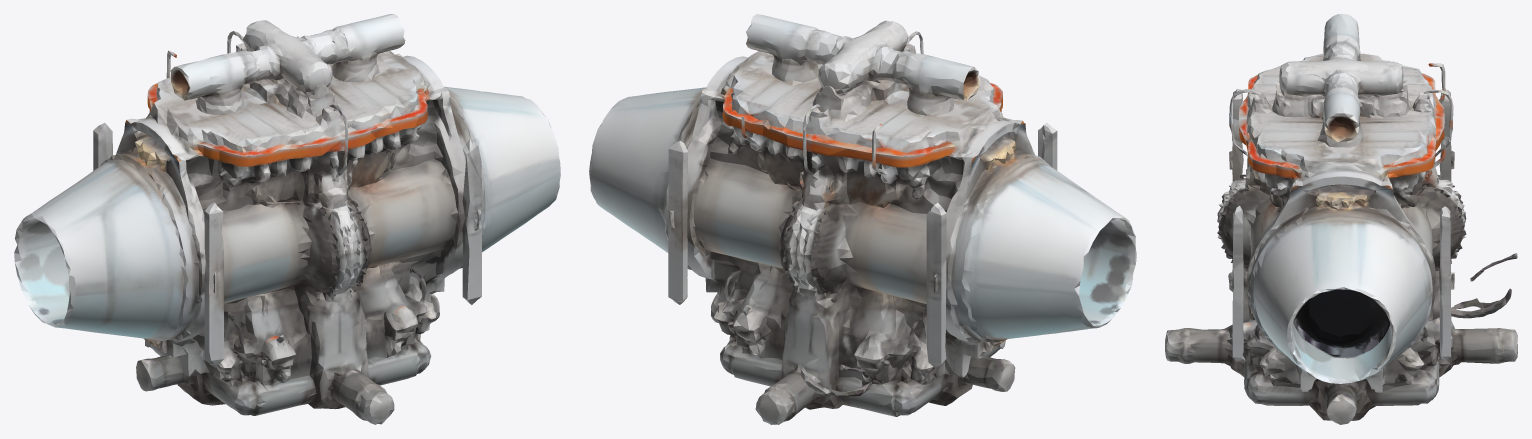
The model's file is viper_engine_main.glb.
The picture shows the model from 3 angles, left to right: view 1: azimuth 30°, elevation 25°; view 2: azimuth 150°, elevation 25°; view 3: azimuth 270°, elevation 25°; orthographic projection. The views are drawn at different scales.
Parts seen in each view (by area): view 1: viper_engine_main; view 2: viper_engine_main; view 3: viper_engine_main.
Boxes of the visible parts, x1,y1,x2,y2 form: viper_engine_main: [14, 14, 560, 424]; viper_engine_main: [589, 14, 1136, 424]; viper_engine_main: [1165, 14, 1517, 424].
Bounding box in the file's own units: 1.9 × 1.25 × 1.25.
Materials: 1 (1 with a texture image).
